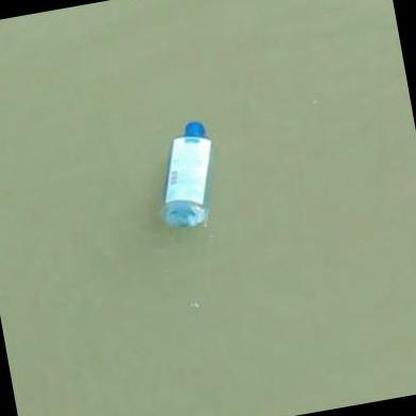plastic bottle: (165, 122, 210, 226)
